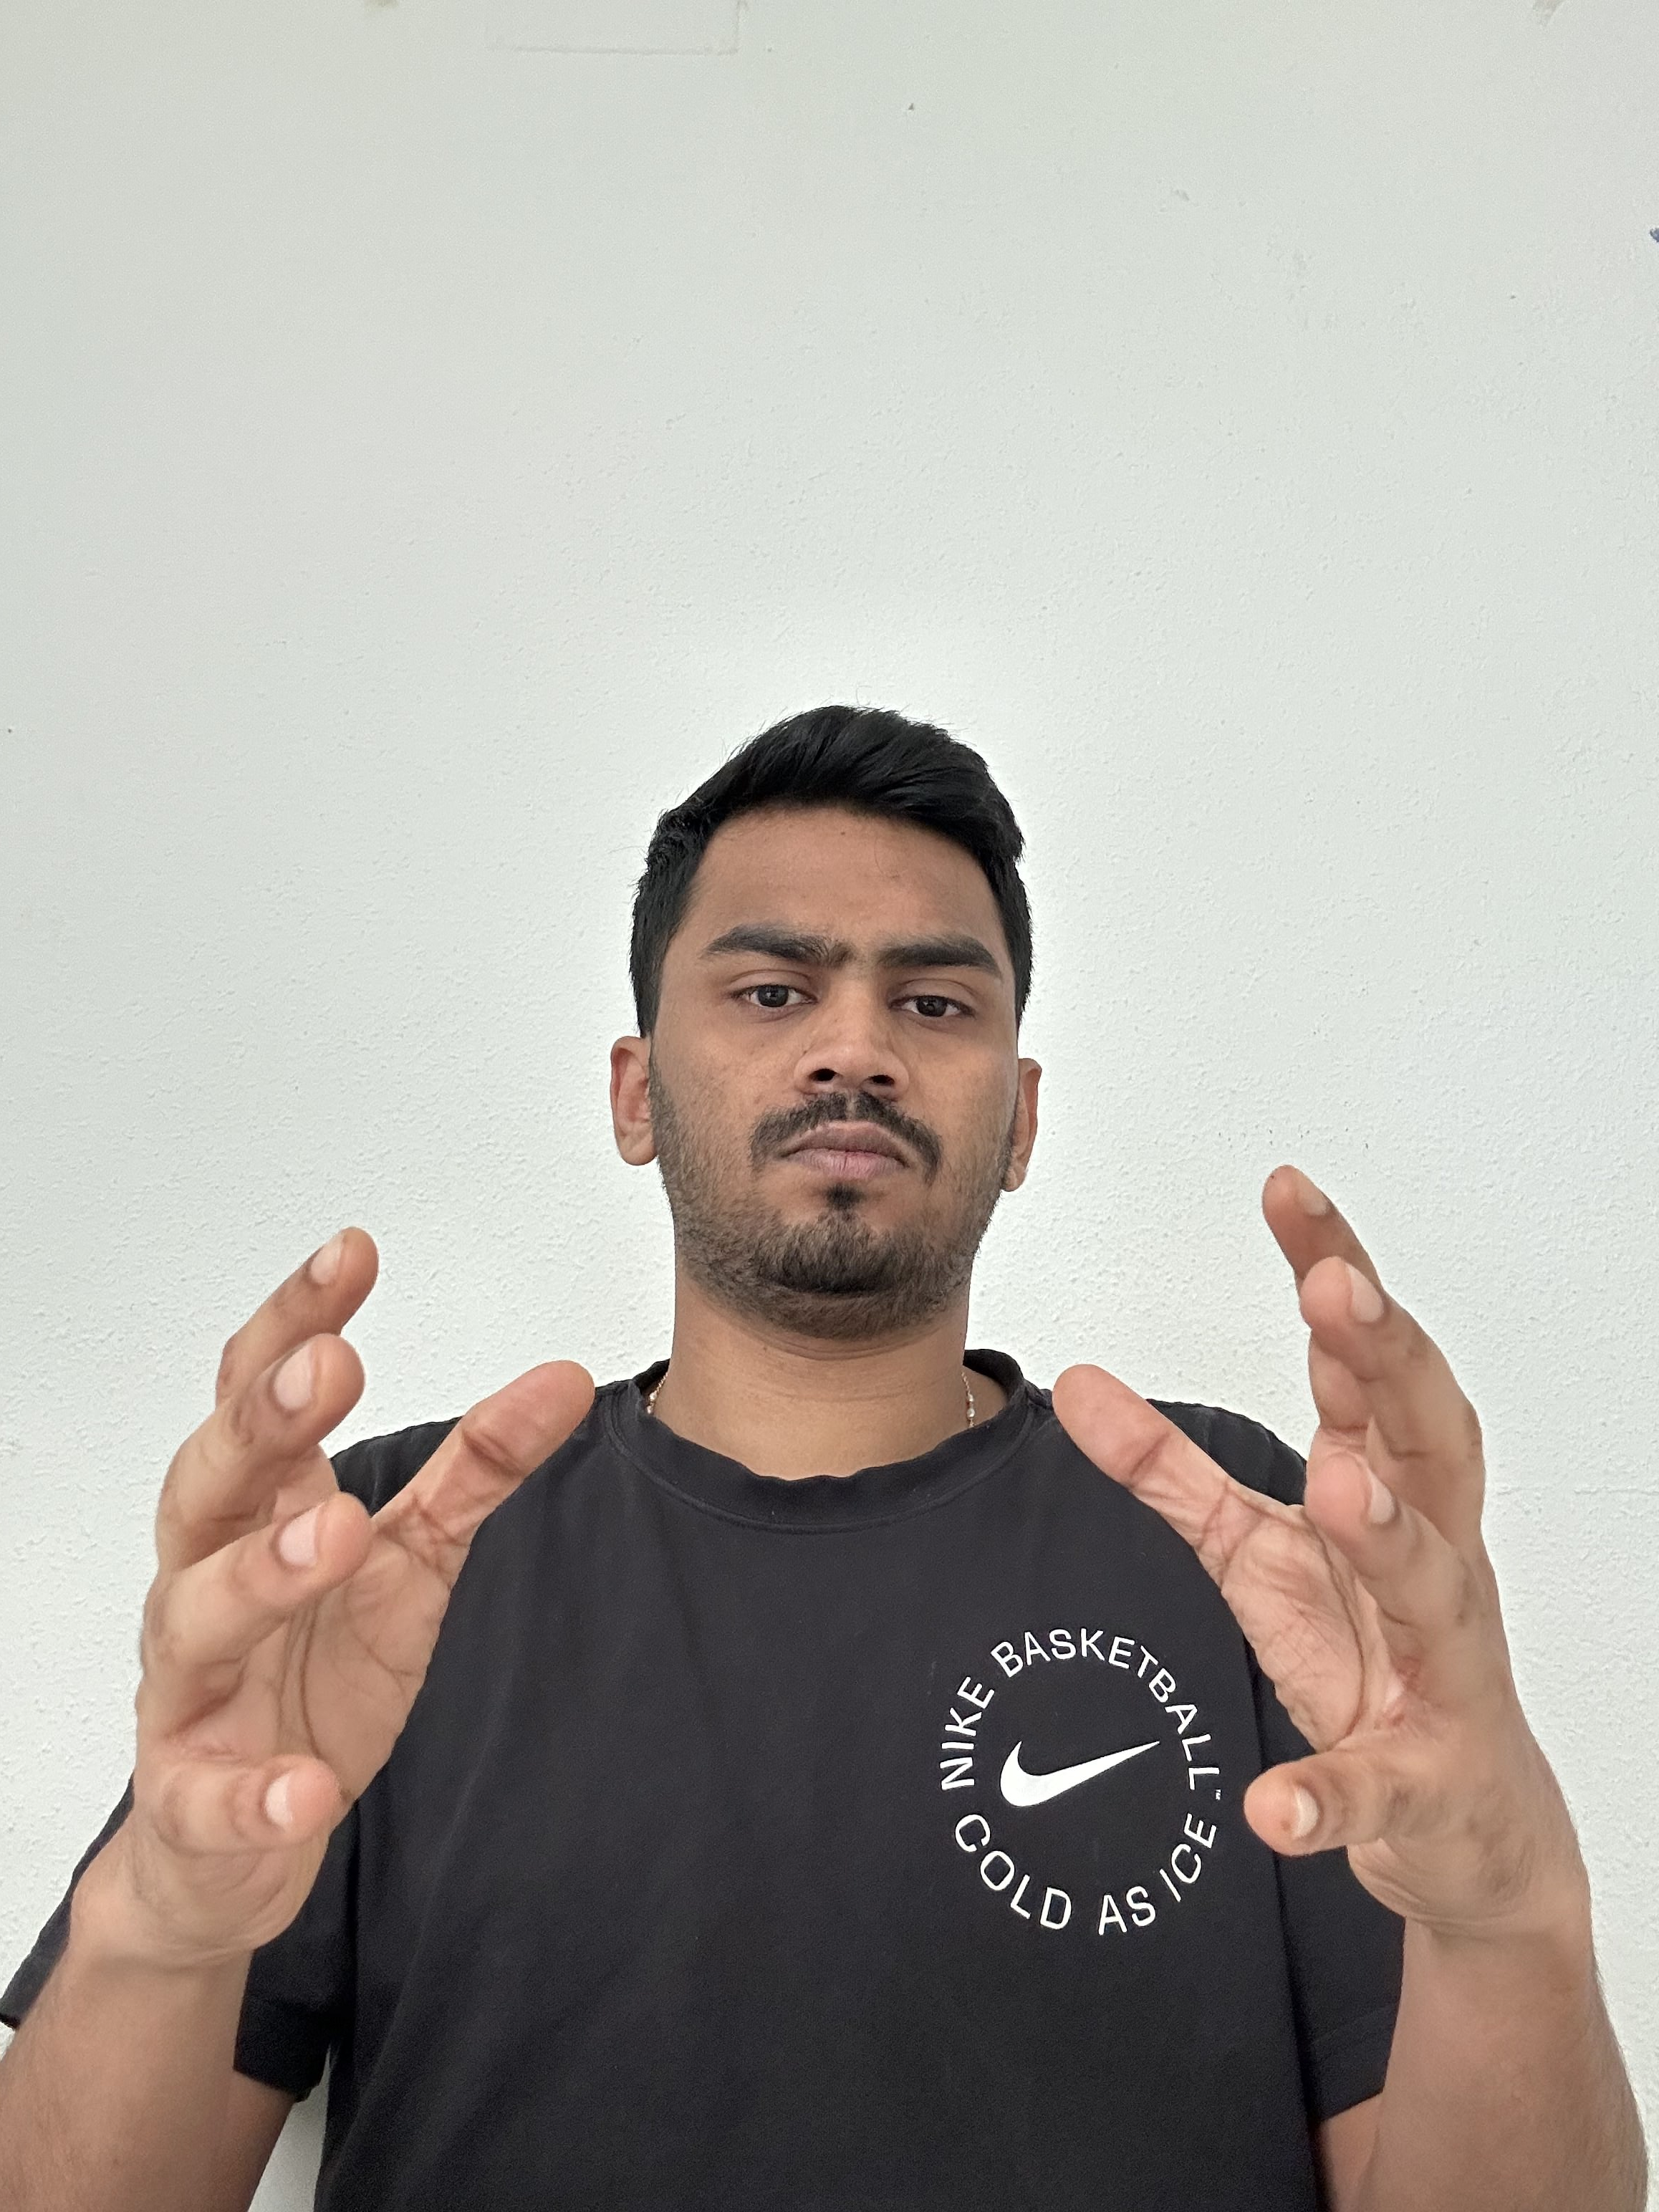explode: (9, 700, 1636, 2203), (931, 1616, 1229, 1944)
